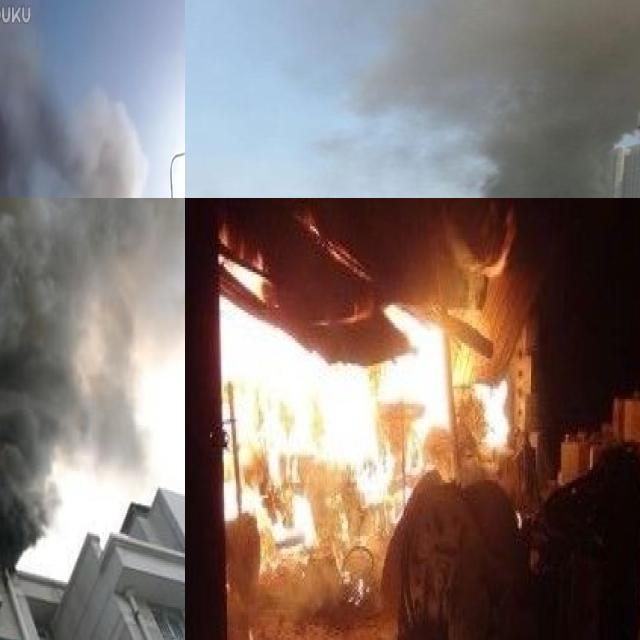fire: (219, 236, 516, 562)
smoke: (0, 198, 185, 542), (365, 0, 640, 198), (0, 25, 165, 198)
